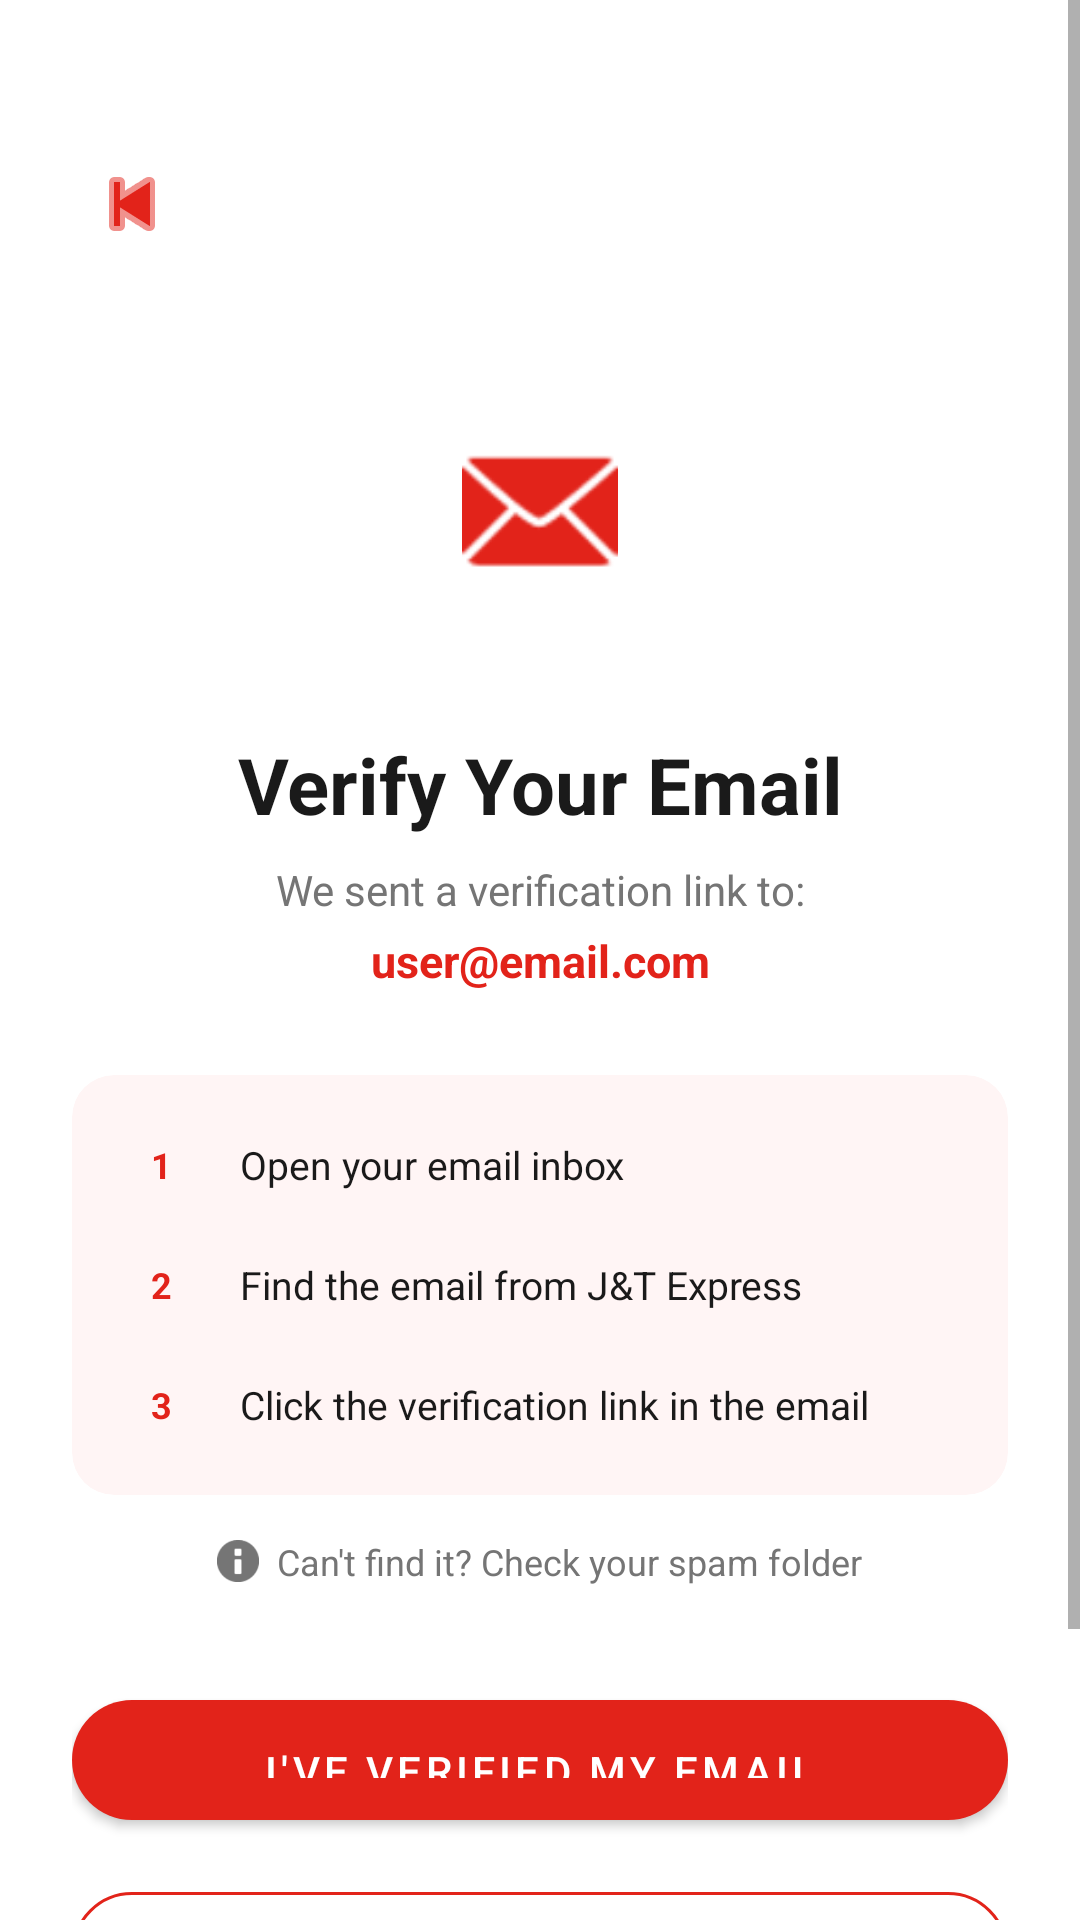

Where to tap for icons on this 1080x1920 app screen, as (x,y):
Back: (132,204)
Info: (238,1561)
